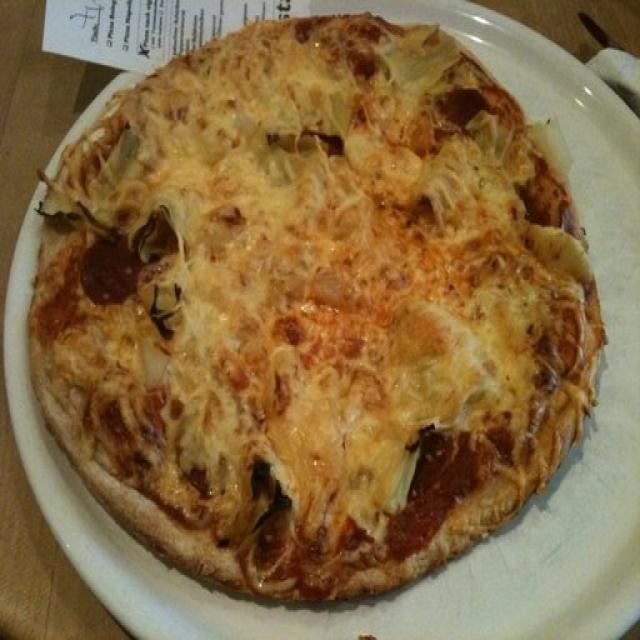Cheese: (203, 196, 384, 366), (396, 178, 487, 410), (163, 369, 397, 432), (171, 98, 253, 195)
Mushrooms: (40, 173, 116, 248), (246, 448, 296, 530), (263, 117, 349, 156), (140, 272, 192, 336), (133, 205, 182, 261)
Pizza: (29, 15, 609, 603)
